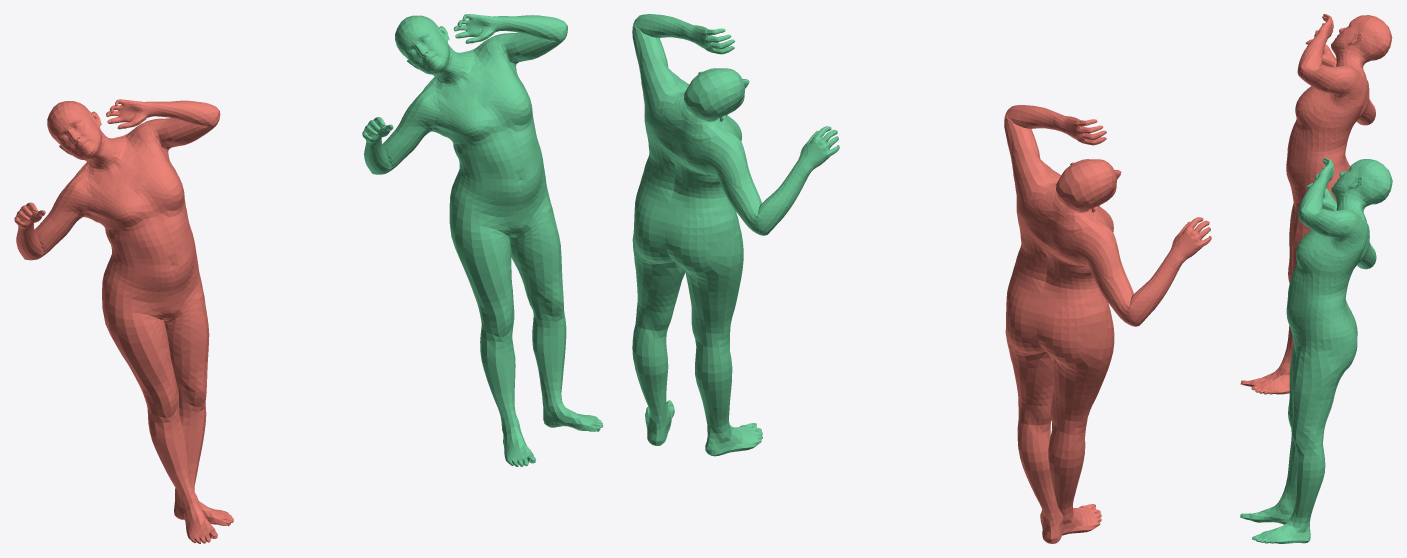
File: pose_378_before_after.glb
3 renders of one model, left to right at view 1: azimuth 30°, elevation 25°; view 2: azimuth 150°, elevation 25°; view 3: azimuth 270°, elevation 25°, orthographic. The views are drawn at different scales.
Parts seen in each view (by area): view 1: poseshield_green, input_red; view 2: poseshield_green, input_red; view 3: poseshield_green, input_red.
Part boxes in pixels (bbox=[...]): poseshield_green: bbox=[362, 14, 603, 466]; input_red: bbox=[14, 99, 233, 543]; poseshield_green: bbox=[632, 14, 839, 456]; input_red: bbox=[1004, 105, 1211, 543]; poseshield_green: bbox=[1240, 158, 1392, 543]; input_red: bbox=[1240, 14, 1392, 394].
Size of what is drawn, in the model's own units: 2.26 by 1.64 by 0.6343.
